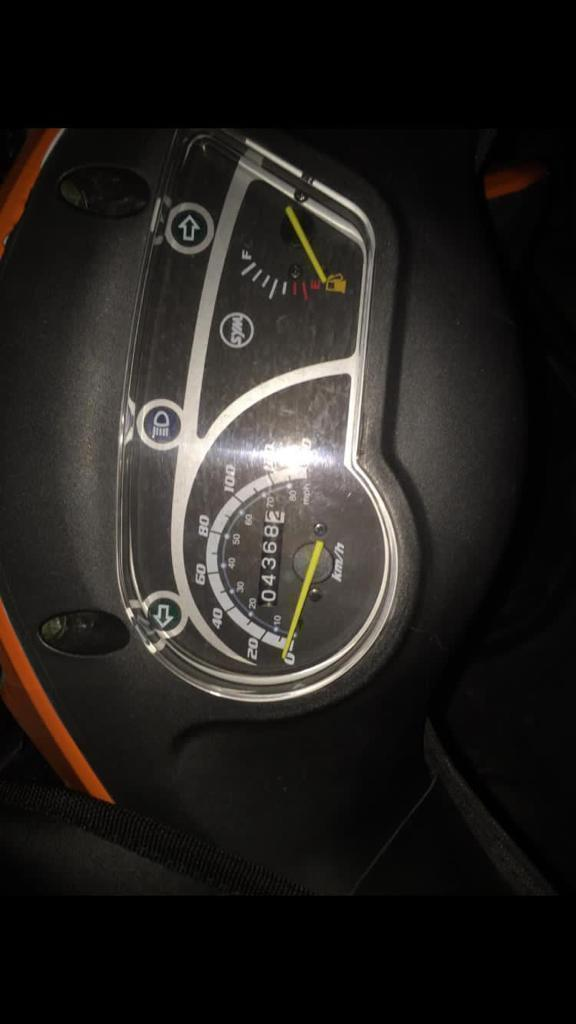0: (260, 589, 276, 601)
2: (267, 509, 280, 520)
3: (260, 557, 276, 570)
4: (261, 574, 276, 586)
6: (262, 540, 277, 553)
8: (263, 524, 279, 537)
odometer: (255, 508, 285, 606)
